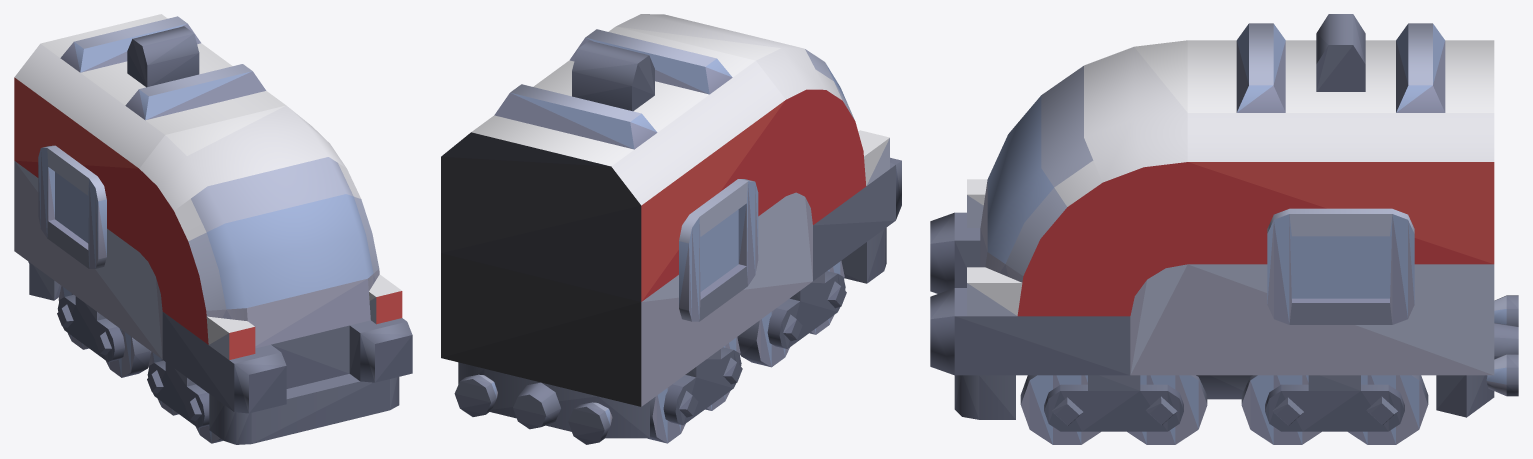
3 renders of one model, left to right at view 1: azimuth 30°, elevation 25°; view 2: azimuth 150°, elevation 25°; view 3: azimuth 270°, elevation 25°, orthographic. The views are drawn at different scales.
Visible parts, largest first — view 1: Scene, wheels-back, wheels-front; view 2: Scene, wheels-front, wheels-back; view 3: Scene, wheels-back, wheels-front.
Boxes of the visible parts, box(x1,y1,x2,y2) form: Scene: box(14, 14, 412, 444); wheels-back: box(57, 286, 150, 377); wheels-front: box(147, 352, 223, 443); Scene: box(441, 14, 901, 444); wheels-front: box(737, 261, 846, 367); wheels-back: box(647, 337, 742, 443); Scene: box(930, 14, 1518, 419); wheels-back: box(1241, 375, 1428, 444); wheels-front: box(1020, 375, 1207, 444).
Bounding box in the file's own units: 2.48 × 3.8 × 5.42.
